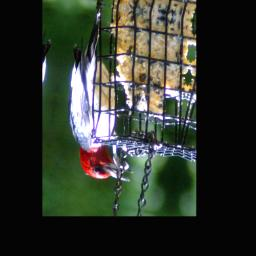Woodpecker: (56, 1, 156, 187)
